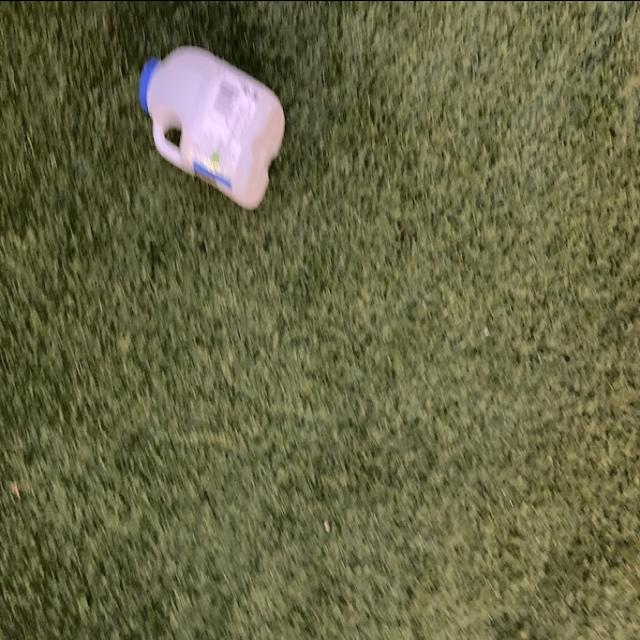HDPEM: (136, 34, 288, 206)
